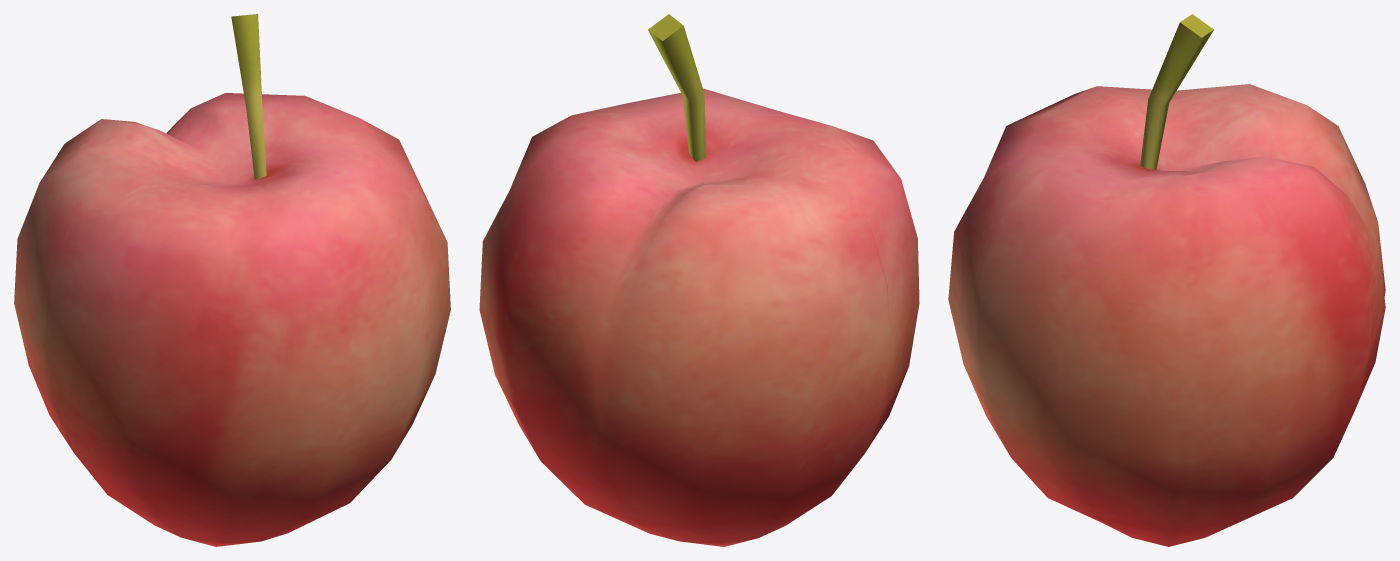
Rendered from G_FruitTree_002_S3.FBX.
3 renders of one model, left to right at view 1: azimuth 30°, elevation 25°; view 2: azimuth 150°, elevation 25°; view 3: azimuth 270°, elevation 25°, orthographic. The views are drawn at different scales.
Visible parts, largest first — view 1: G_FruitTree_002_S3_P01_LOD0; view 2: G_FruitTree_002_S3_P01_LOD0; view 3: G_FruitTree_002_S3_P01_LOD0.
Part boxes in pixels (x1,y1,x2,y2): G_FruitTree_002_S3_P01_LOD0: (14, 14, 450, 546); G_FruitTree_002_S3_P01_LOD0: (479, 14, 919, 546); G_FruitTree_002_S3_P01_LOD0: (948, 14, 1385, 546).
Bounding box in the file's own units: 45.42 × 59.6 × 44.43.
1 material, 1 textured.
